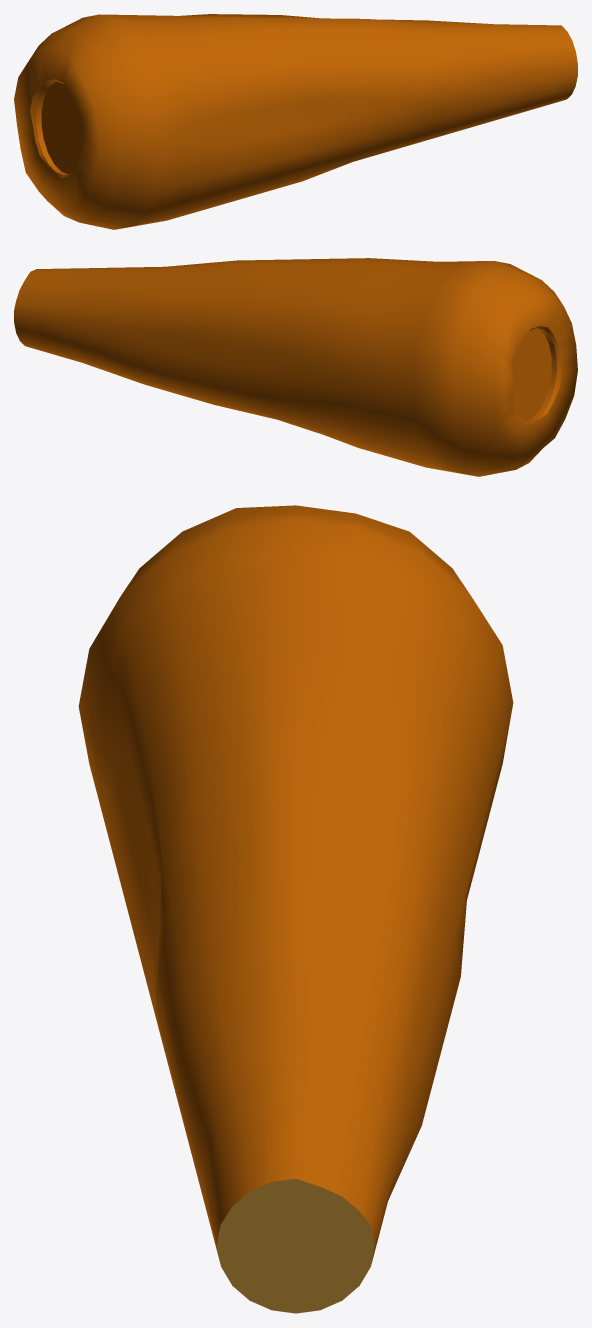
Rendered from mesh_Carrot_Stage04.fbx.
3 renders of one model, top to bottom at view 1: azimuth 30°, elevation 25°; view 2: azimuth 150°, elevation 25°; view 3: azimuth 270°, elevation 25°, orthographic. The views are drawn at different scales.
Visible parts, largest first — view 1: mesh_Carrot_Stage04; view 2: mesh_Carrot_Stage04; view 3: mesh_Carrot_Stage04.
Boxes of the visible parts, x1,y1,x2,y2 form: mesh_Carrot_Stage04: [14, 14, 577, 229]; mesh_Carrot_Stage04: [14, 258, 577, 476]; mesh_Carrot_Stage04: [78, 505, 513, 1313].
Bounding box in the file's own units: 0.1388 × 0.0519 × 0.051.
